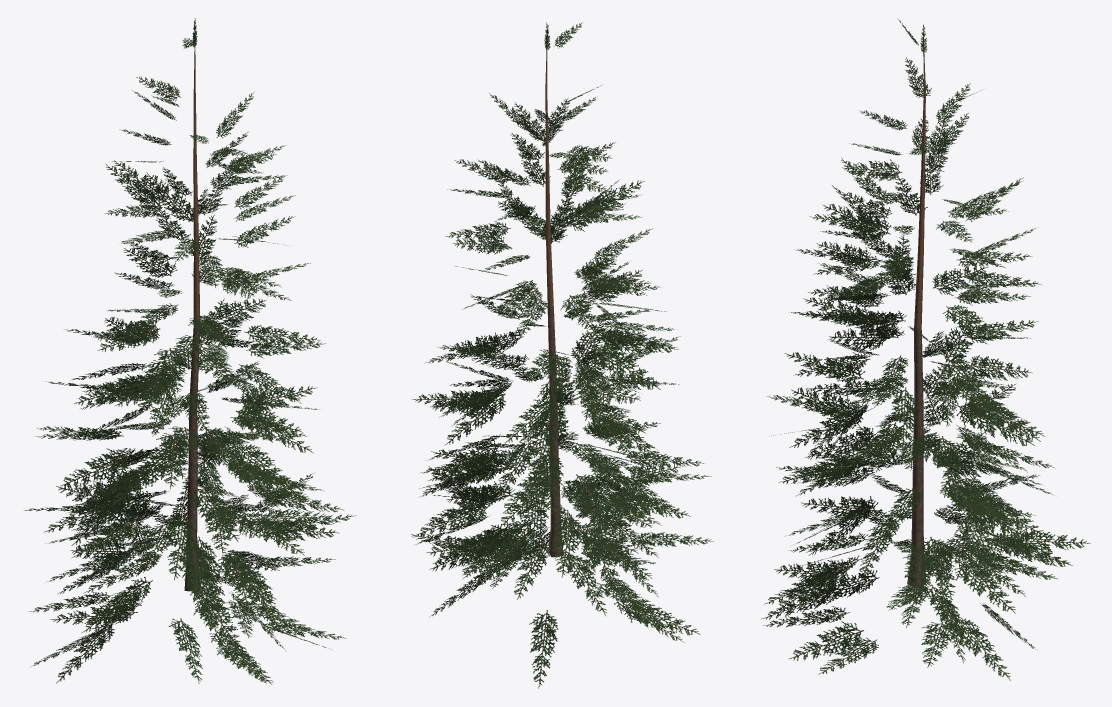
Rendered from spruce_a_LOD2.fbx.
The picture shows the model from 3 angles, left to right: view 1: azimuth 30°, elevation 25°; view 2: azimuth 150°, elevation 25°; view 3: azimuth 270°, elevation 25°; orthographic projection. The views are drawn at different scales.
Parts seen in each view (by area): view 1: Spruce_A_LOD2_Foliage, Spruce_A_LOD2_Bark; view 2: Spruce_A_LOD2_Foliage, Spruce_A_LOD2_Bark; view 3: Spruce_A_LOD2_Foliage, Spruce_A_LOD2_Bark.
Part boxes in pixels (left/top/right/bottom): Spruce_A_LOD2_Foliage: left=24, top=18, right=356, bottom=684; Spruce_A_LOD2_Bark: left=184, top=18, right=200, bottom=591; Spruce_A_LOD2_Foliage: left=411, top=23, right=713, bottom=688; Spruce_A_LOD2_Bark: left=545, top=22, right=563, bottom=557; Spruce_A_LOD2_Foliage: left=761, top=18, right=1090, bottom=680; Spruce_A_LOD2_Bark: left=907, top=24, right=925, bottom=585.
Size of the model in its own units: 15.56 by 30.39 by 14.64.
Materials: 2 (2 with a texture image).
